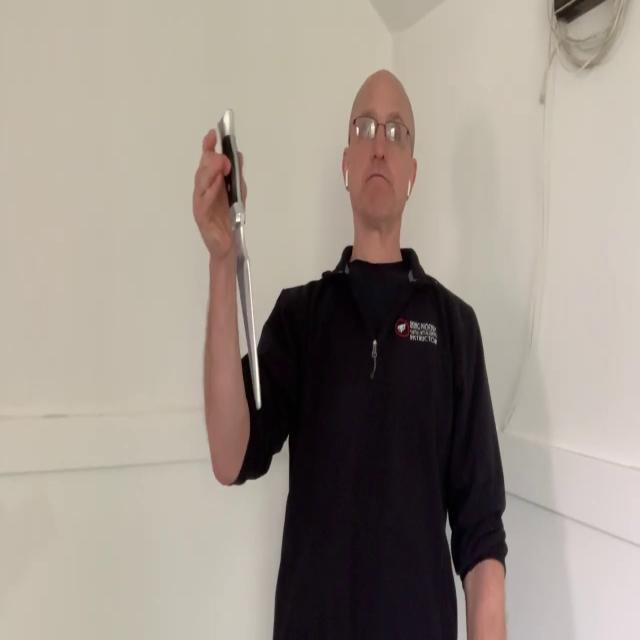Knife_Handle: (192, 106, 262, 411)
